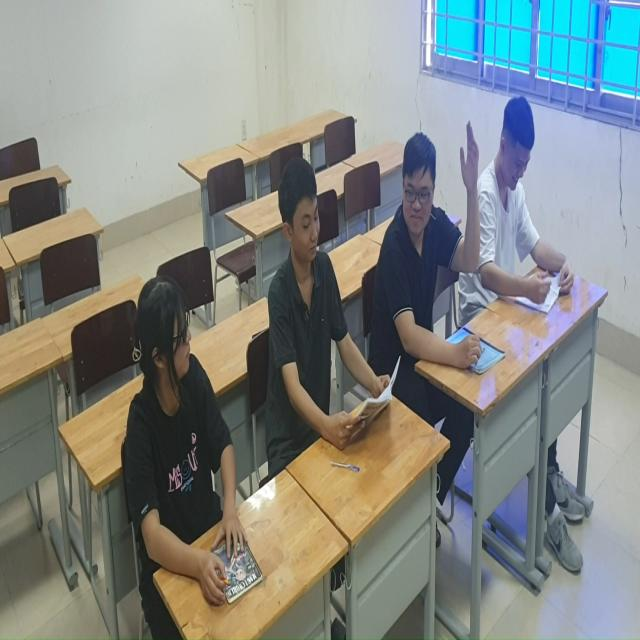read: (121, 272, 294, 640), (252, 162, 397, 483), (477, 89, 576, 318)
